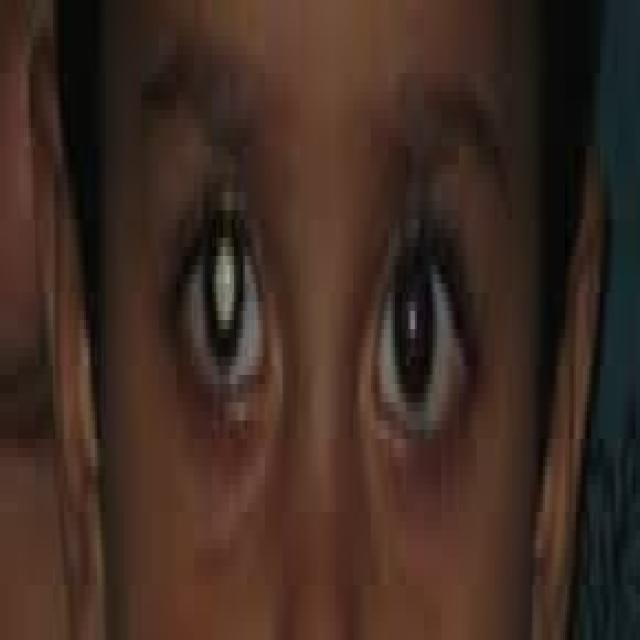reflexo-alterado: (158, 152, 283, 498), (370, 170, 477, 513)
